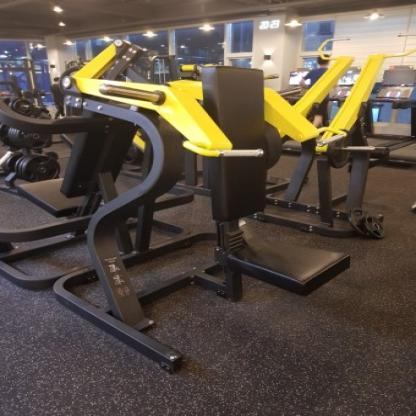shoulder press machine: (0, 0, 416, 375)
